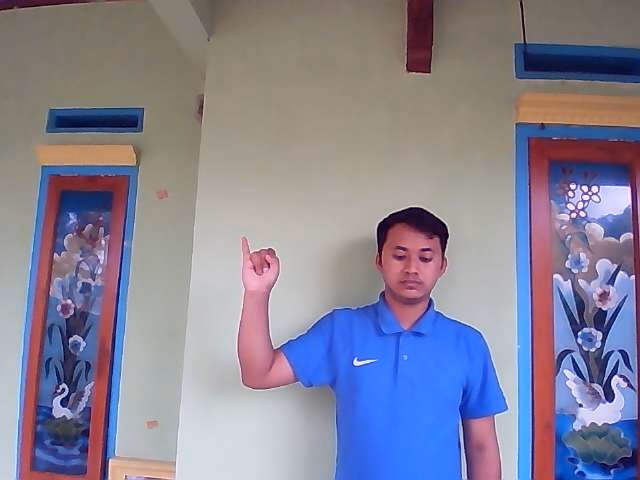I: (238, 235, 283, 294)
